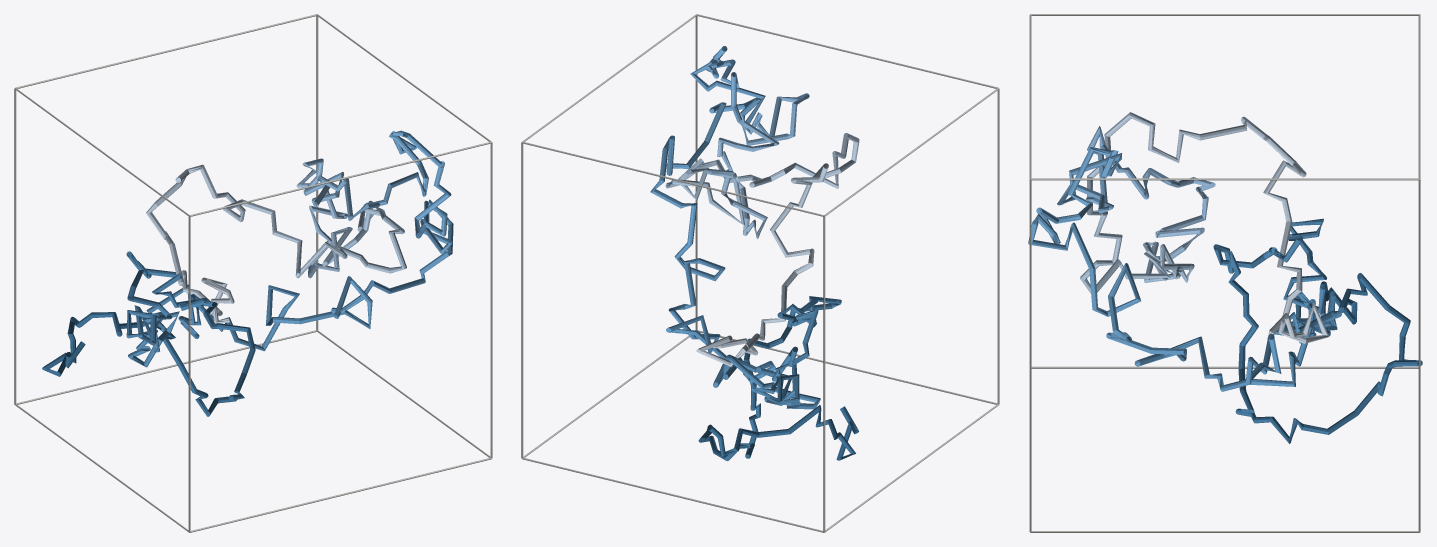
The picture shows the model from 3 angles, left to right: view 1: azimuth 30°, elevation 25°; view 2: azimuth 150°, elevation 25°; view 3: azimuth 270°, elevation 25°; orthographic projection. The views are drawn at different scales.
Parts seen in each view (by area): view 1: geometry_0, geometry_1; view 2: geometry_0, geometry_1; view 3: geometry_0, geometry_1.
Boxes of the visible parts, x1,y1,x2,y2 form: geometry_0: [42, 130, 453, 416]; geometry_1: [14, 14, 492, 532]; geometry_0: [650, 46, 859, 461]; geometry_1: [521, 14, 999, 532]; geometry_0: [1028, 112, 1422, 443]; geometry_1: [1029, 14, 1420, 532].
Size of the model in its own units: 0.3037 by 0.3044 by 0.3042.
